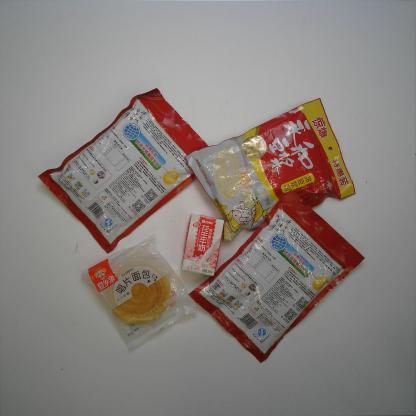Dessert: (80, 232, 198, 351)
Instant Drink: (187, 189, 365, 365), (37, 87, 211, 255), (184, 98, 358, 244)
Milk: (180, 214, 225, 278)
